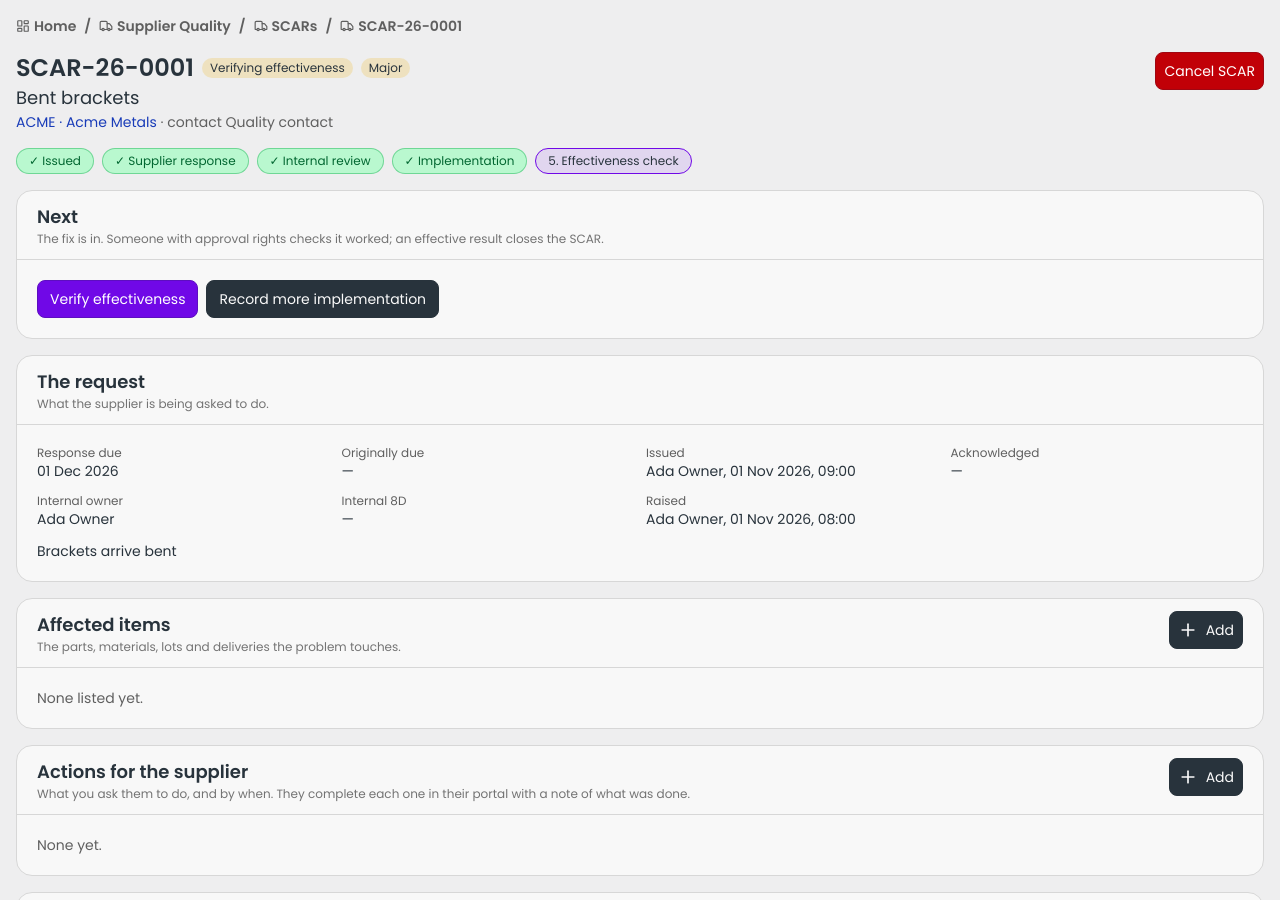
SCAR page › an approver sees Verify effectiveness and its dialog closes the SCAR on an effective result
The width and height of the screenshot is (1280, 900).
Click the button "Verify effectiveness" at (118, 299), box top-left (37, 280), bottom-right (198, 318)
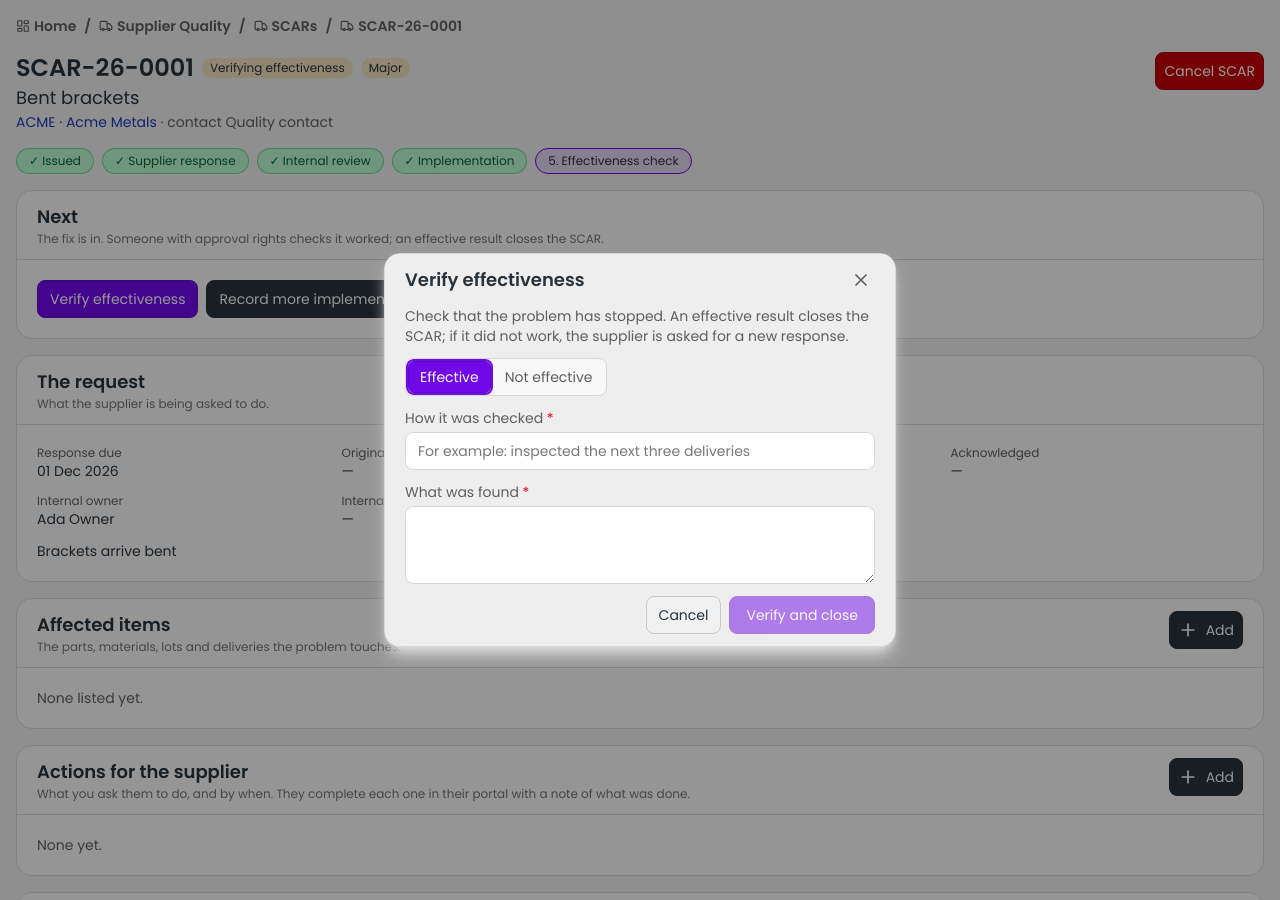
Type "Next three deliveries" into the field labelled "How it was checked" at (640, 451), box top-left (405, 432), bottom-right (875, 470)
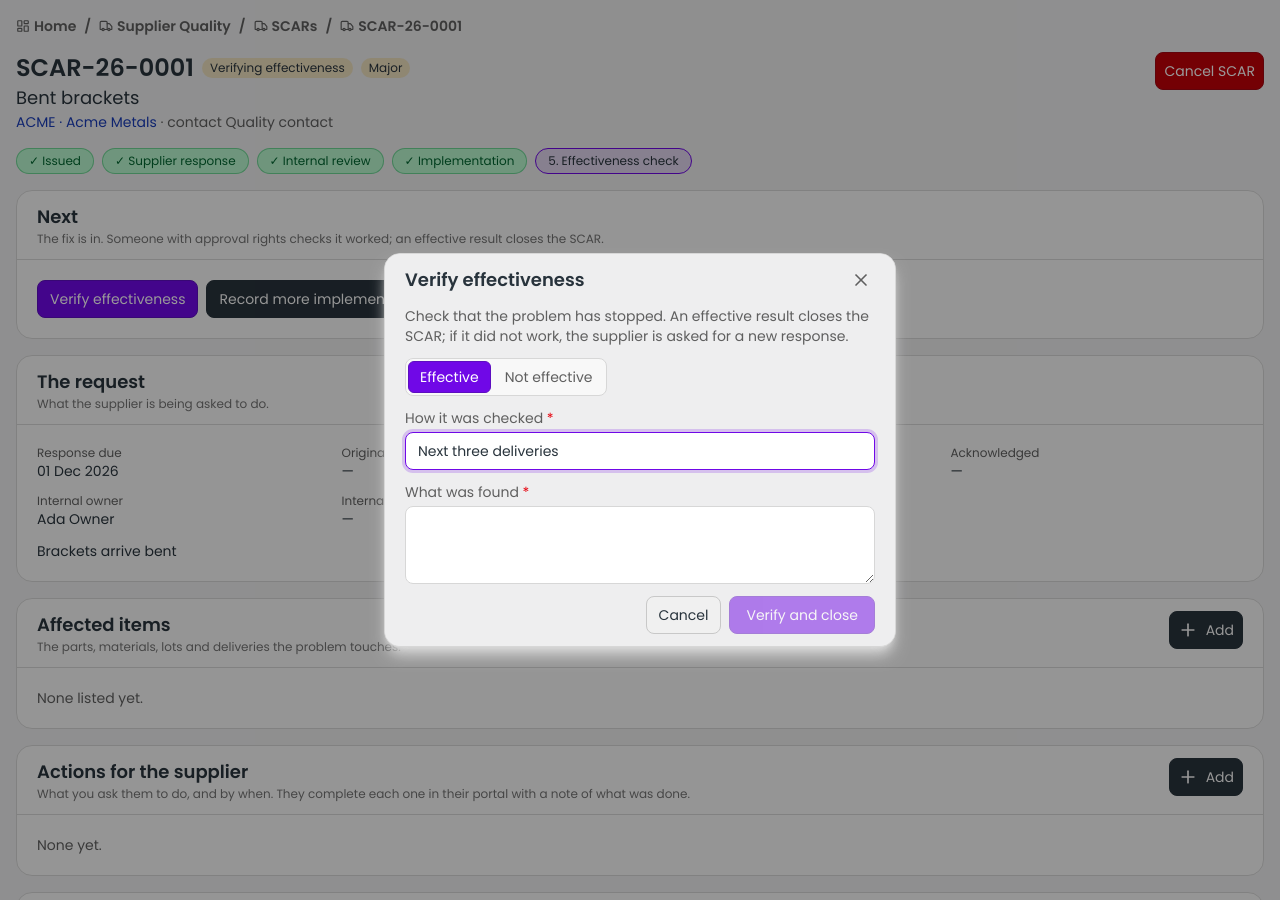
Type "All within tolerance" into the text box labelled "What was found" at (640, 545), box top-left (405, 506), bottom-right (875, 584)
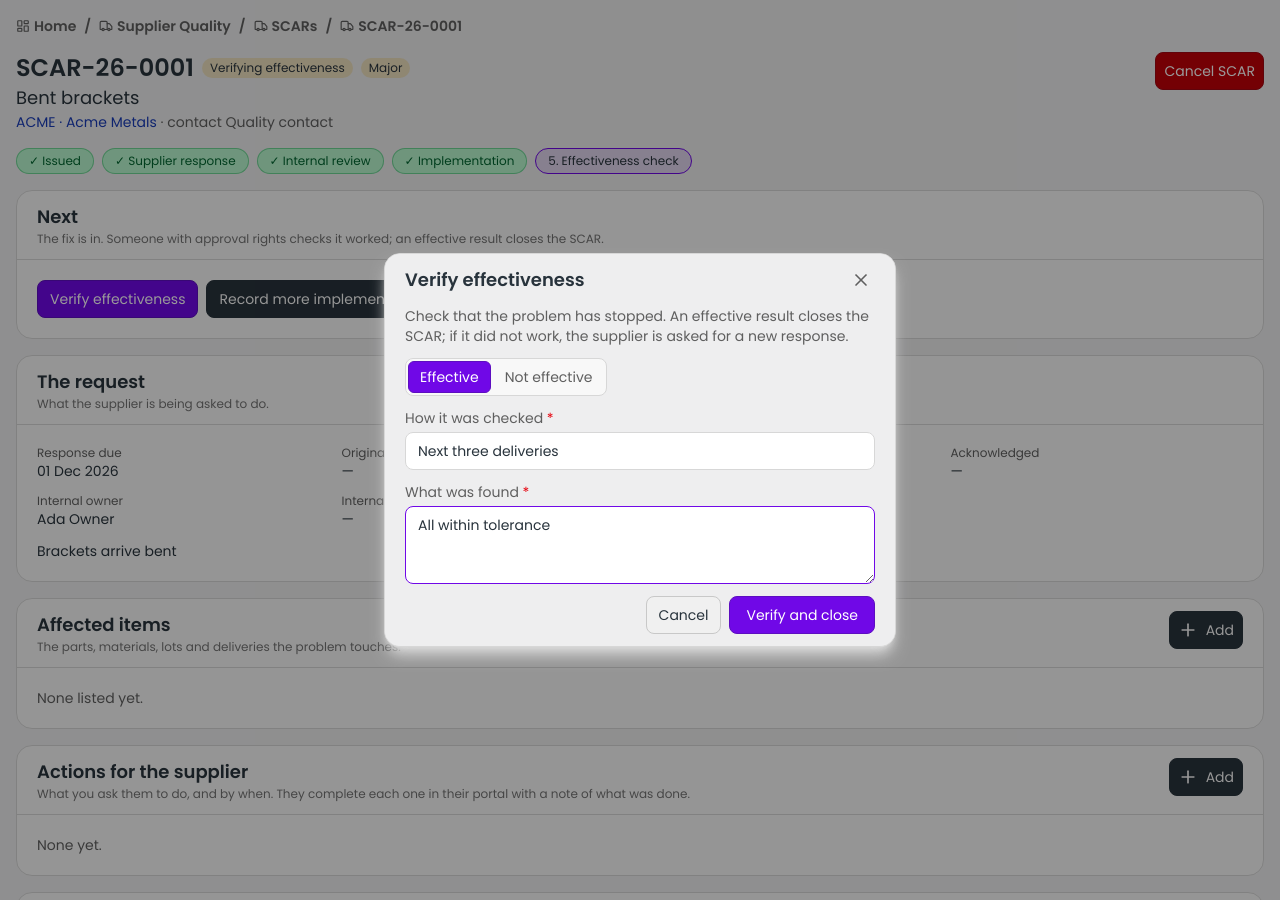
Click the button "Verify and close" at (802, 615), box top-left (729, 596), bottom-right (875, 634)
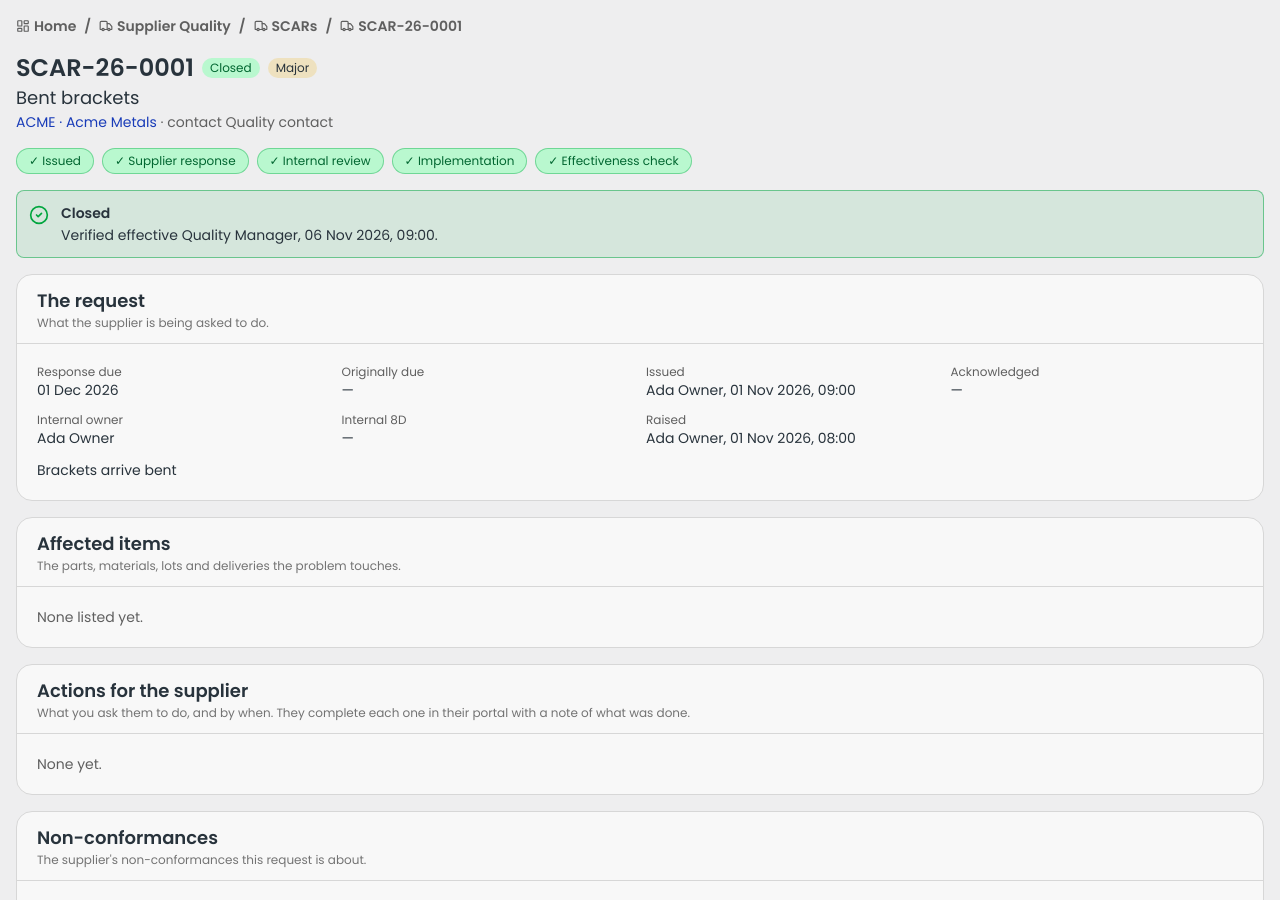
Check: the text "Verified effective Quality Manager, 06 Nov 2026, 09:00." is shown, box top-left (61, 225), bottom-right (438, 245)
